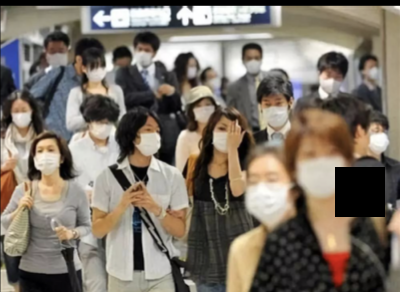with_mask: (295, 140, 348, 197), (244, 170, 292, 225), (259, 95, 291, 128), (133, 121, 162, 156), (33, 142, 62, 176), (211, 121, 240, 153), (365, 123, 389, 153), (318, 68, 345, 93), (192, 100, 216, 123), (89, 117, 113, 139), (10, 105, 32, 128), (46, 45, 69, 67), (85, 60, 108, 81), (133, 44, 154, 66), (244, 52, 262, 74), (366, 60, 379, 80), (207, 71, 220, 89), (186, 61, 198, 77)
